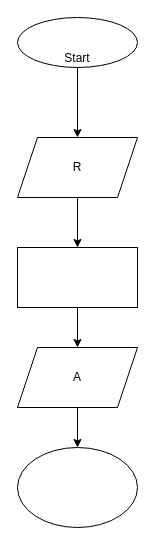
This 155x545 diagram has some shape labels left out. The centre of each missing label's shape, as x and y in pixels:
A = 3.14 * (R*R): point (77, 277)
End: point (77, 487)
